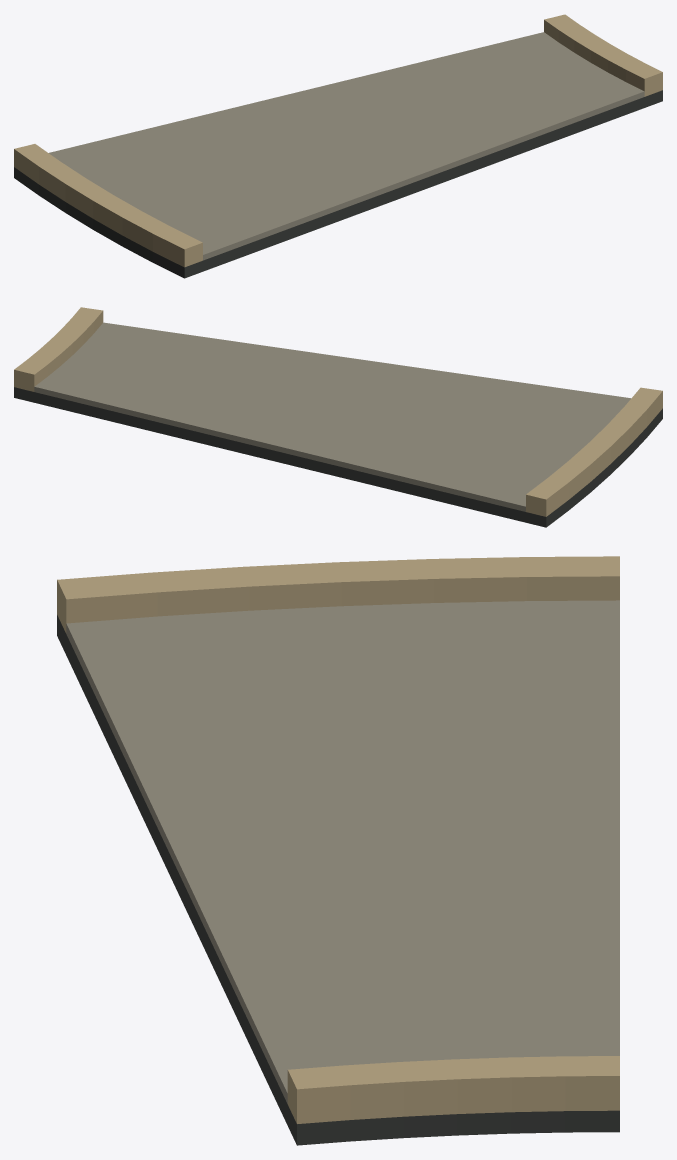
The model's file is road_curve_left_11_25.fbx.
The picture shows the model from 3 angles, top to bottom: view 1: azimuth 30°, elevation 25°; view 2: azimuth 150°, elevation 25°; view 3: azimuth 270°, elevation 25°; orthographic projection. The views are drawn at different scales.
Visible parts, largest first — view 1: Concrete curve.001, Curve base.001, Curved curb.003, Curved curb.002; view 2: Concrete curve.001, Curve base.001, Curved curb.003, Curved curb.002; view 3: Concrete curve.001, Curved curb.003, Curved curb.002, Curve base.001.
Boxes of the visible parts, x1,y1,x2,y2 form: Concrete curve.001: [49, 32, 644, 260]; Curve base.001: [14, 90, 662, 278]; Curved curb.003: [14, 144, 202, 267]; Curved curb.002: [544, 14, 662, 96]; Concrete curve.001: [34, 322, 630, 511]; Curve base.001: [14, 387, 662, 527]; Curved curb.003: [526, 387, 662, 516]; Curved curb.002: [14, 307, 103, 391]; Concrete curve.001: [66, 600, 619, 1103]; Curved curb.003: [57, 556, 619, 633]; Curved curb.002: [287, 1056, 619, 1123]; Curve base.001: [57, 615, 619, 1145].
Size of the model in its own units: 85352 by 38082 by 4200.
